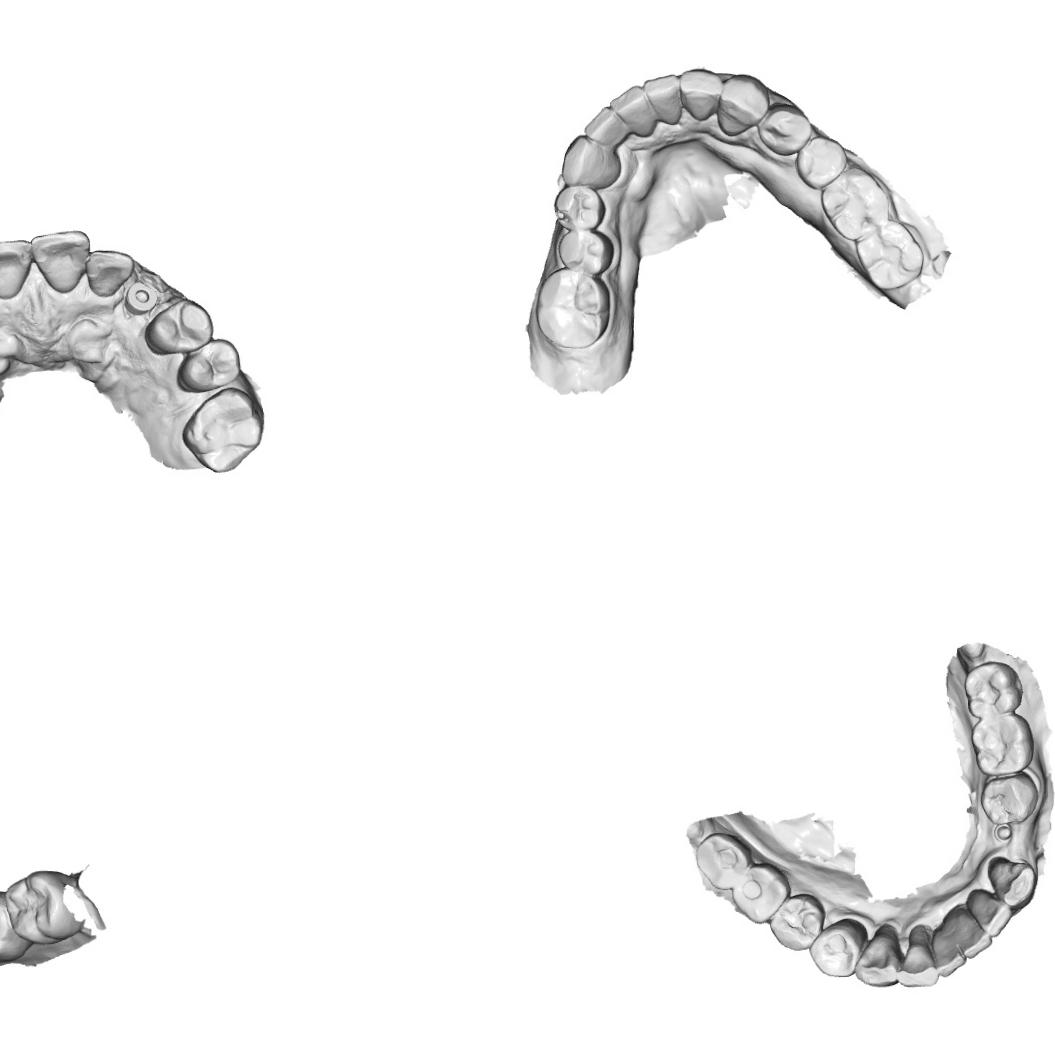canine: (715, 73, 771, 138), (852, 923, 904, 988), (987, 856, 1038, 911)
implant: (120, 277, 164, 320)
incisor: (28, 225, 92, 294), (559, 134, 622, 190), (605, 82, 658, 138), (84, 246, 132, 306), (896, 924, 939, 988), (679, 66, 725, 124), (582, 104, 630, 153), (966, 887, 1012, 938), (643, 72, 684, 128), (0, 236, 33, 299), (931, 928, 966, 978), (958, 927, 993, 960)
molar: (180, 385, 267, 476), (534, 266, 612, 351), (3, 868, 84, 947), (850, 216, 927, 295), (818, 164, 894, 244), (970, 712, 1035, 777), (730, 861, 792, 924), (693, 831, 752, 891), (964, 660, 1024, 718), (0, 889, 35, 964)
premolar: (142, 296, 216, 358), (174, 336, 245, 397), (808, 917, 869, 978), (768, 892, 825, 952), (980, 770, 1038, 826), (793, 134, 848, 190), (756, 103, 812, 158), (555, 229, 616, 276), (552, 182, 606, 232)
